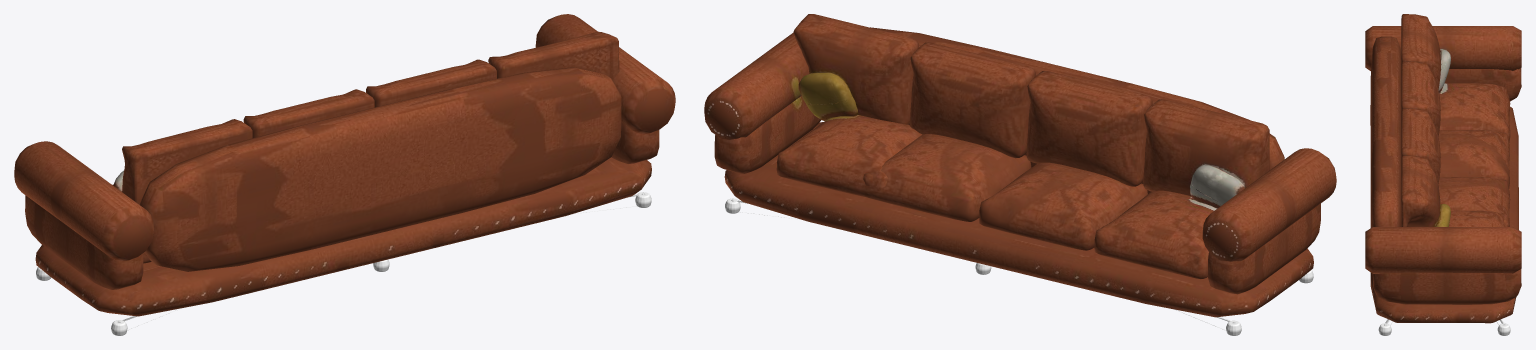
Rendered from sofa_rust.glb.
3 views of the same model, side by side, from view 1: azimuth 30°, elevation 25°; view 2: azimuth 150°, elevation 25°; view 3: azimuth 270°, elevation 25° (orthographic). The views are drawn at different scales.
Visible parts, largest first — view 1: prop_sofa_rust_felt, sofa_rust_wood_dark; view 2: prop_sofa_rust_felt, sofa_rust_wood_dark; view 3: prop_sofa_rust_felt, sofa_rust_wood_dark.
Part boxes in pixels (x1,y1,x2,y2): prop_sofa_rust_felt: [14, 14, 675, 316]; sofa_rust_wood_dark: [36, 192, 651, 335]; prop_sofa_rust_felt: [704, 14, 1336, 317]; sofa_rust_wood_dark: [725, 198, 1313, 335]; prop_sofa_rust_felt: [1365, 14, 1521, 323]; sofa_rust_wood_dark: [1378, 319, 1510, 335].
Size of the model in its own units: 4.22 by 1.16 by 1.26.
2 materials, 1 textured.
